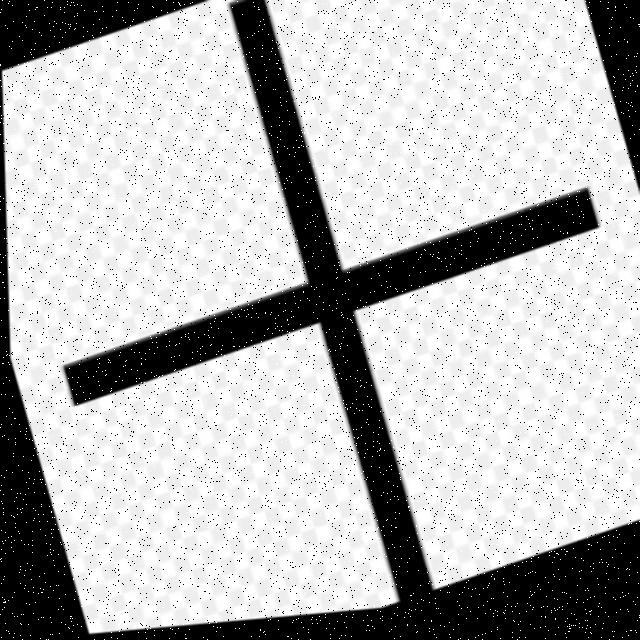cross: (150, 117, 499, 473)
